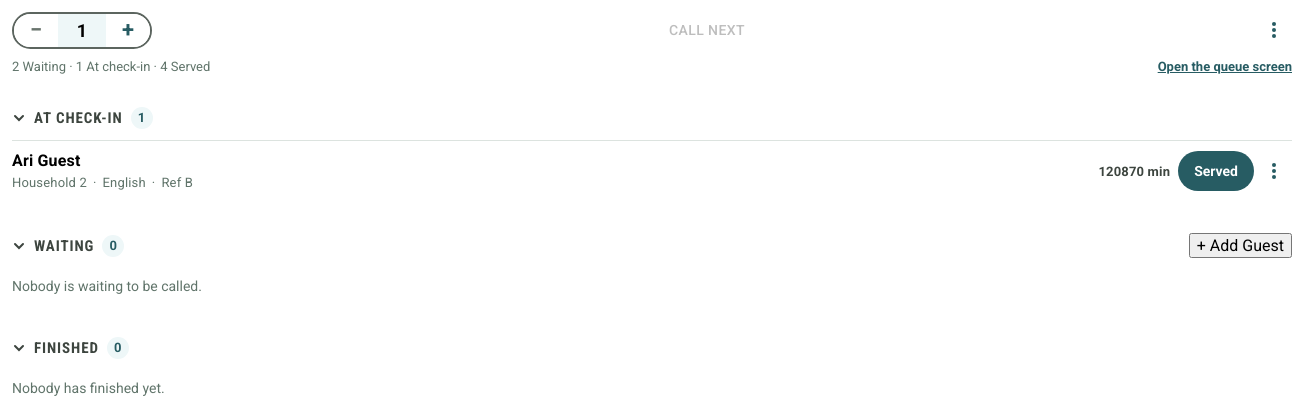
Test: QueueView › only offers the transitions that are legal from each status
The width and height of the screenshot is (1304, 413).
Expected: the button "Served" is shown, left=1178, top=151, right=1254, bottom=191
Step 1. Click the 2nd button with class "more-actions" → (1274, 171), box left=1256, top=153, right=1292, bottom=189
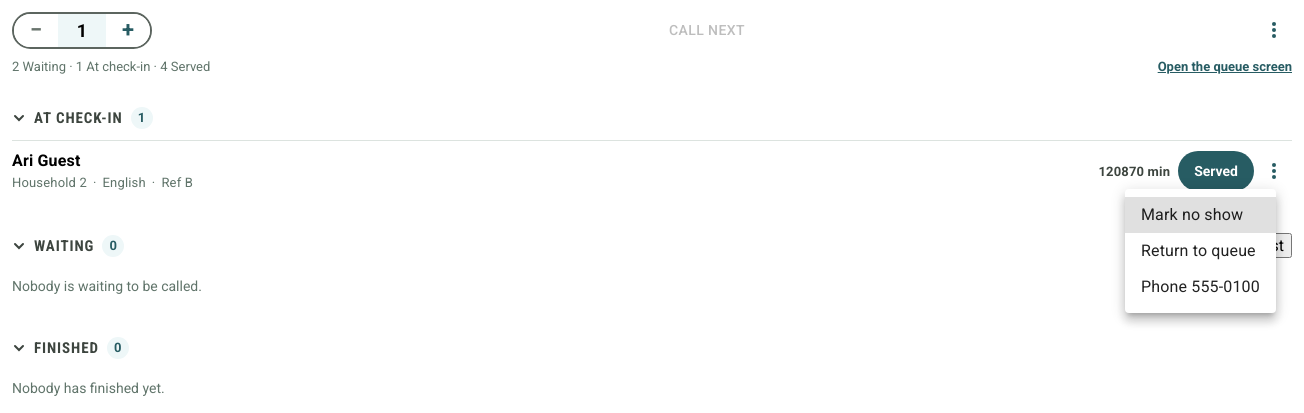
Expected: the menu does not show "Call"
Now the menu shows "Mark no show", box left=1141, top=205, right=1243, bottom=224
Now the menu shows "Return to queue", box left=1141, top=241, right=1256, bottom=260
